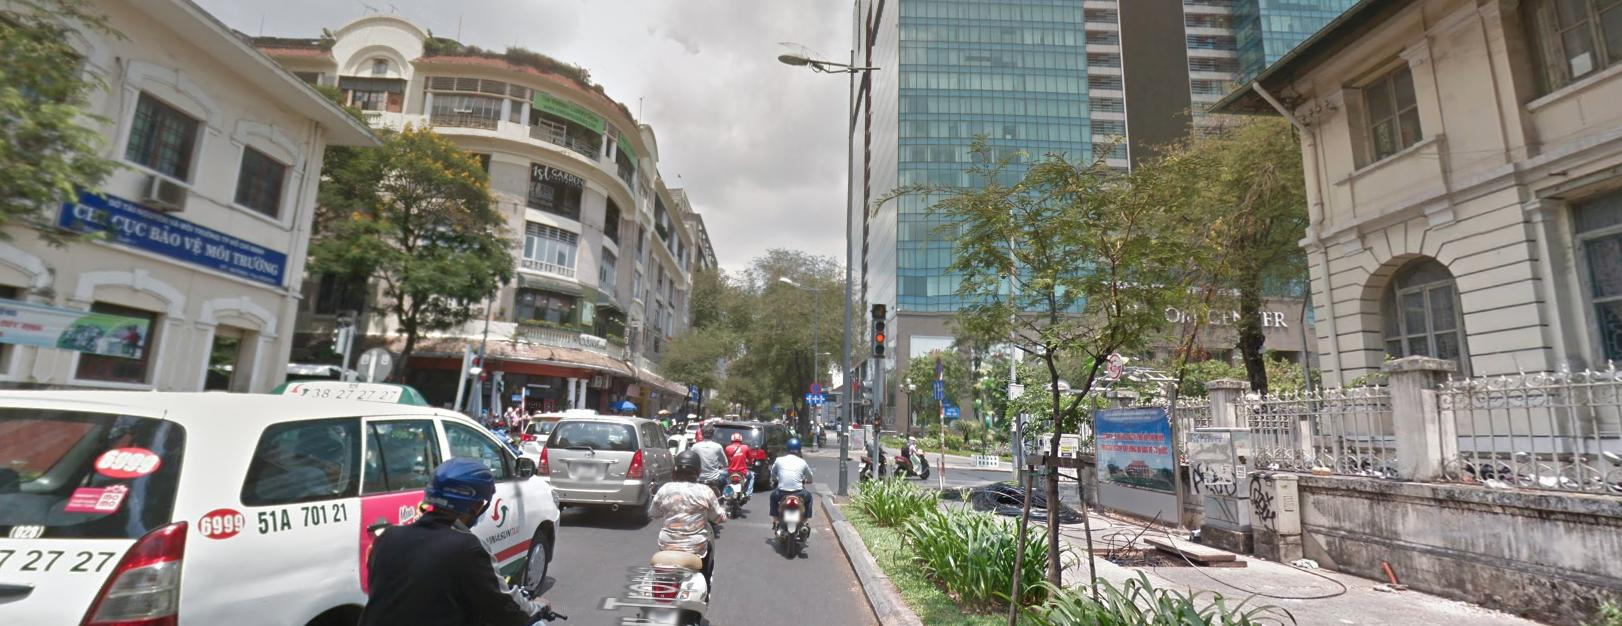Cam dung va do: (809, 380, 821, 392)
